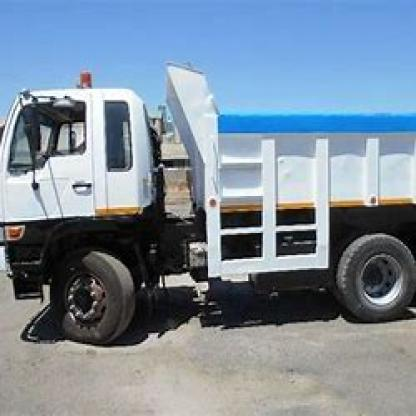dump_truck: (2, 52, 414, 342)
